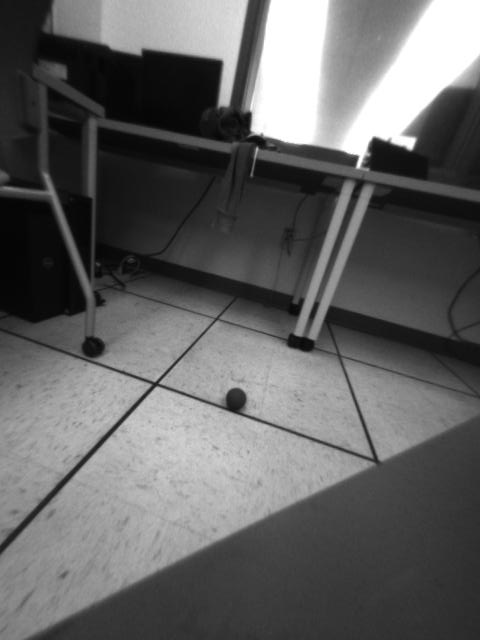dogtoy: (219, 380, 254, 417)
